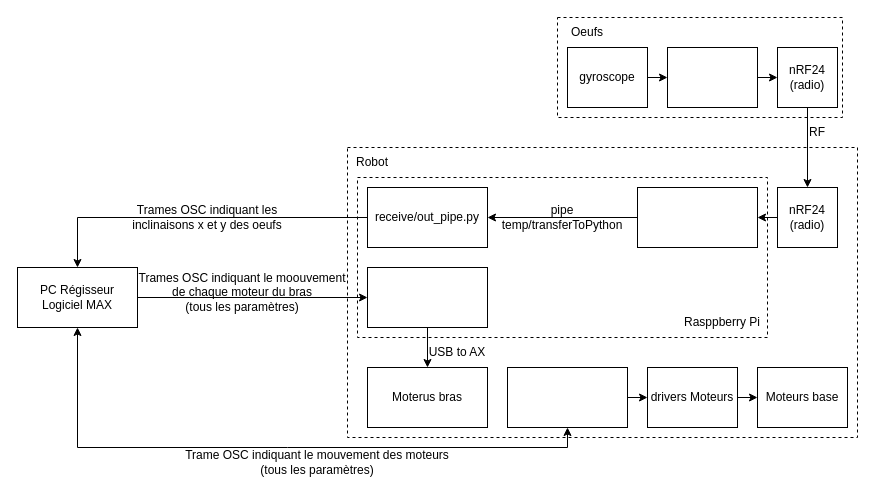
This 875x495 diagram has some shape labels left out. The centre of each missing label's shape, as x and y in pixels:
"Arduino MKR 1000" belongs at (x=567, y=397).
"arduino nano" belongs at (x=712, y=77).
"PythonDev/main.py" belongs at (x=427, y=297).
"receive/receive C++" belongs at (x=697, y=217).
